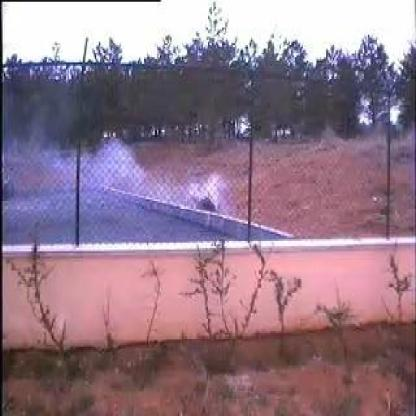-: (51, 126, 227, 236)
